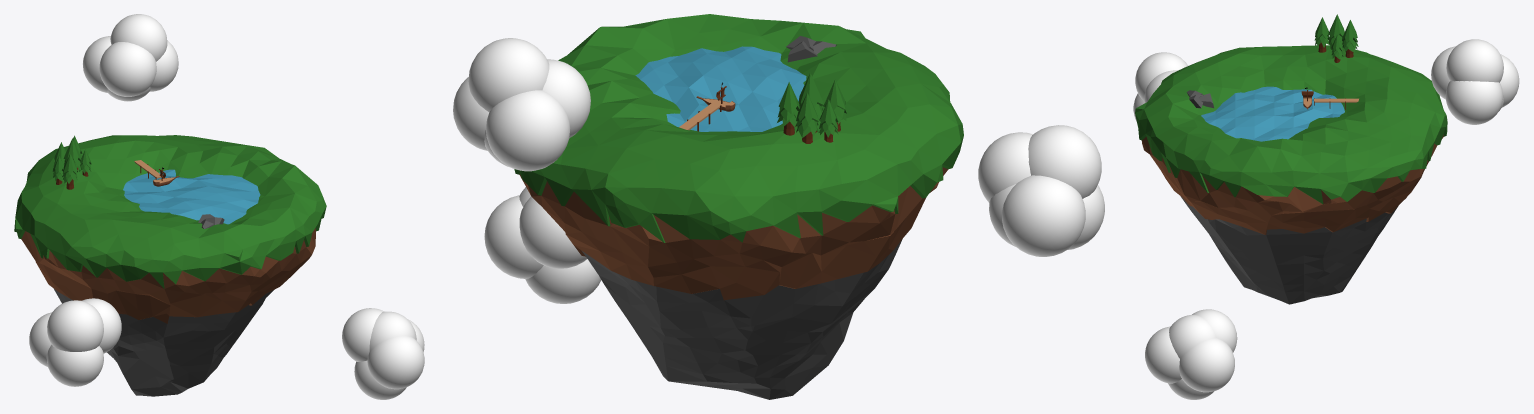
Rendered from low_poly_floating_island.glb.
3 views of the same model, side by side, from view 1: azimuth 30°, elevation 25°; view 2: azimuth 150°, elevation 25°; view 3: azimuth 270°, elevation 25° (orthographic). The views are drawn at different scales.
Parts seen in each view (by area): view 1: Island, Clouds; view 2: Island, Clouds; view 3: Island, Clouds.
Boxes of the visible parts, <box> form: Island: <box>14,135,326,396</box>; Clouds: <box>29,14,424,399</box>; Island: <box>514,14,963,399</box>; Clouds: <box>453,38,1104,303</box>; Island: <box>1135,14,1447,304</box>; Clouds: <box>1133,39,1519,399</box>.
Bounding box in the file's own units: 43.55 × 32.03 × 36.79.
